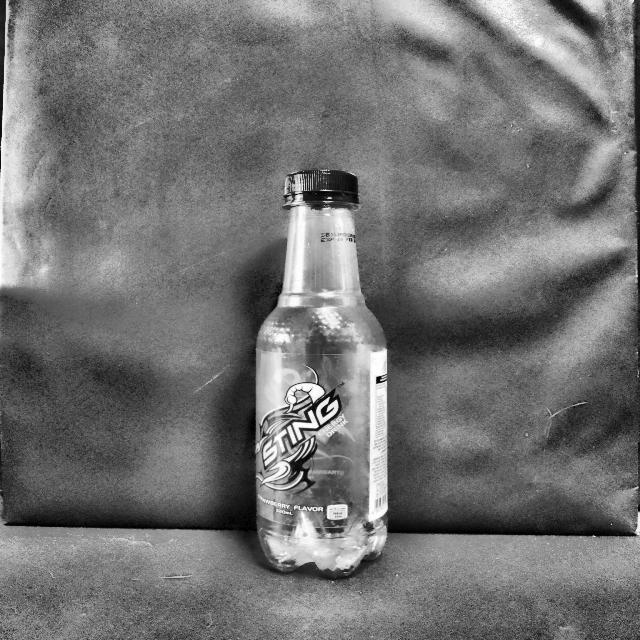Plastic-Bottle: (250, 166, 391, 584)
